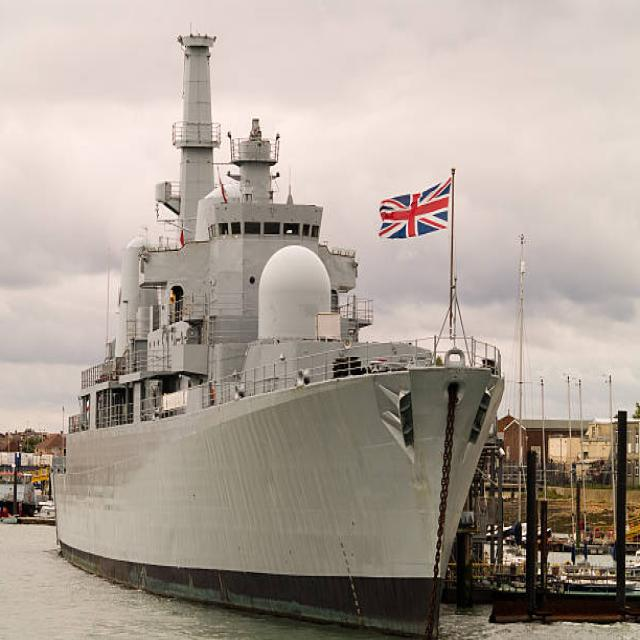Military: (52, 36, 506, 640)
